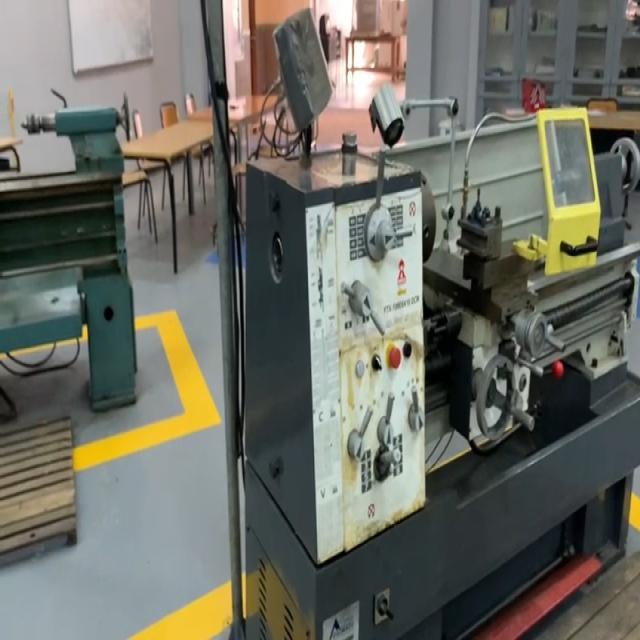tour parallele: (224, 4, 640, 640)
